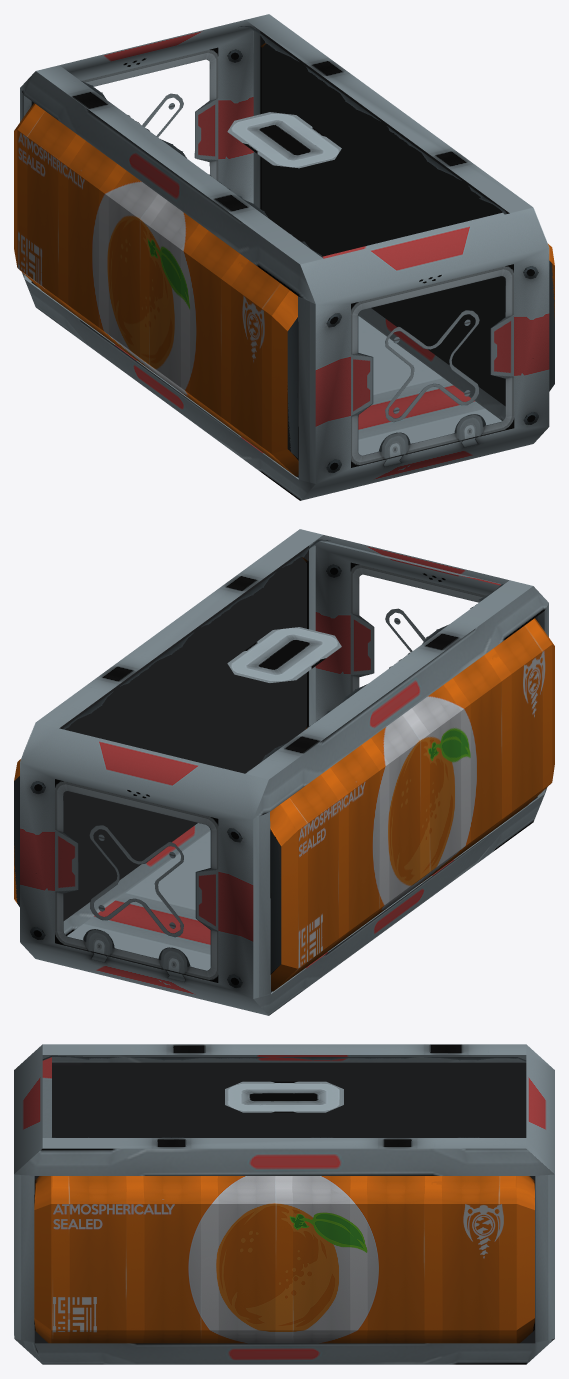
The model's file is env_building_container_lod3.fbx.
3 views of the same model, one above another, from view 1: azimuth 30°, elevation 25°; view 2: azimuth 150°, elevation 25°; view 3: azimuth 270°, elevation 25° (orthographic). The views are drawn at different scales.
Parts seen in each view (by area): view 1: polySurface789; view 2: polySurface789; view 3: polySurface789.
Boxes of the visible parts, x1,y1,x2,y2 form: polySurface789: (14, 14, 554, 500); polySurface789: (14, 529, 554, 1015); polySurface789: (14, 1044, 554, 1364).
Bounding box in the file's own units: 19.98 × 16.08 × 36.48.
